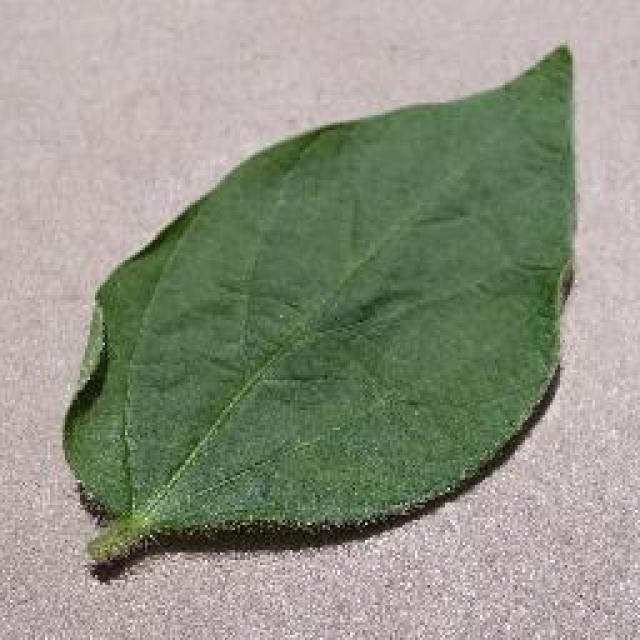Soy_healthy: (103, 112, 551, 506)
